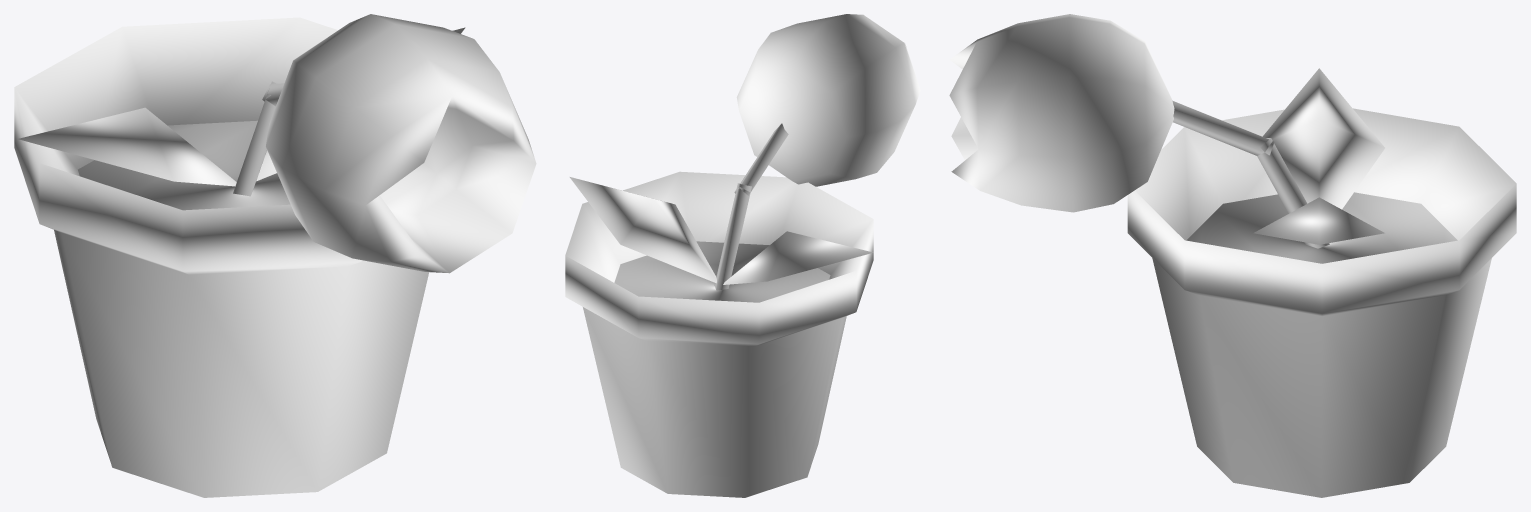
Rendered from DELETE.ICO.obj.
3 views of the same model, side by side, from view 1: azimuth 30°, elevation 25°; view 2: azimuth 150°, elevation 25°; view 3: azimuth 270°, elevation 25° (orthographic). The views are drawn at different scales.
Size of the model in its own units: 2.8 by 3.13 by 3.75.
